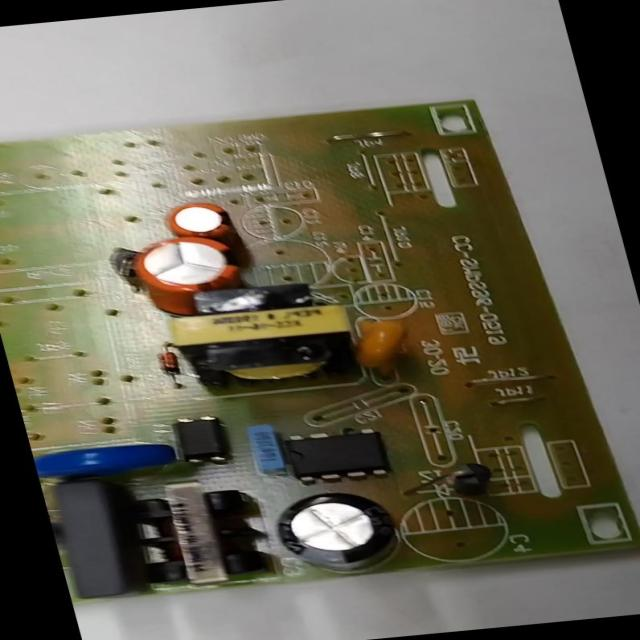Cap1: (130, 231, 241, 297)
Cap2: (160, 199, 233, 238)
Cap3: (268, 488, 406, 576)
MOSFET: (284, 426, 391, 482)
Mov: (32, 438, 180, 480)
Resistor: (50, 518, 60, 543)
Transformer: (158, 278, 362, 393), (125, 477, 272, 584)
